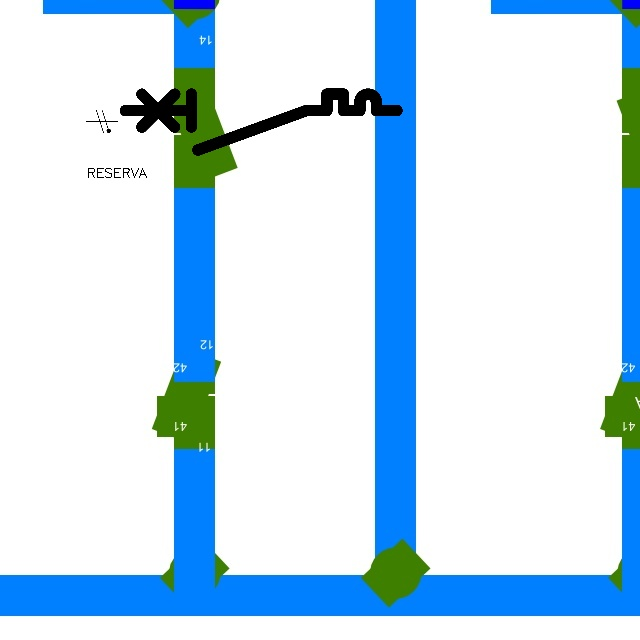interruptor_termomagnetico: (118, 87, 403, 157)
